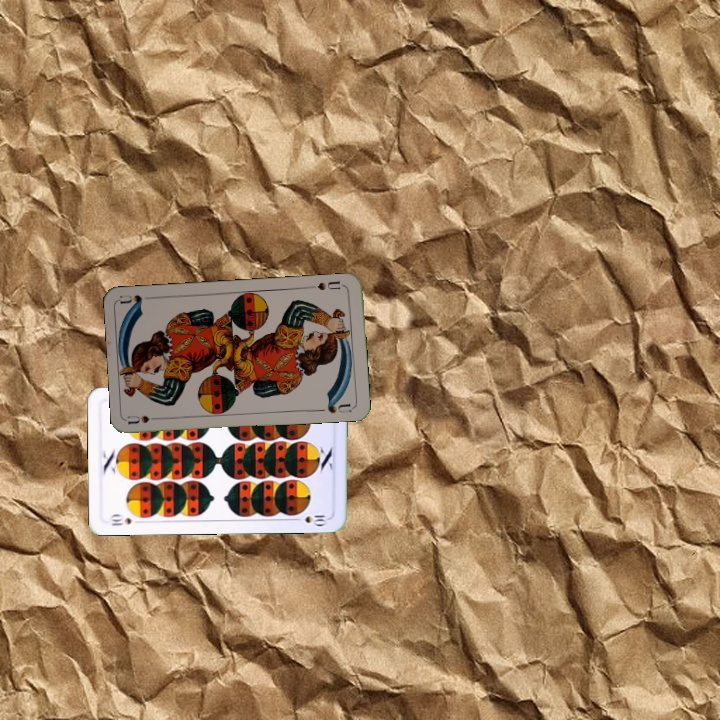S10: (107, 511, 134, 529)
SU: (306, 277, 347, 293), (125, 412, 166, 427)
